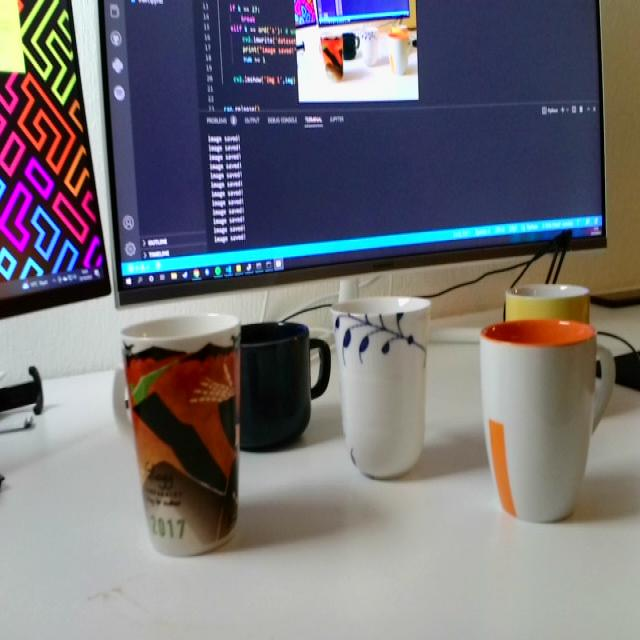Cocio Cup: (502, 282, 590, 326)
Cup: (239, 320, 333, 450)
Halloween cup: (122, 311, 244, 562)
Hand painted cup: (332, 294, 431, 482)
White Cup: (478, 321, 615, 525)
